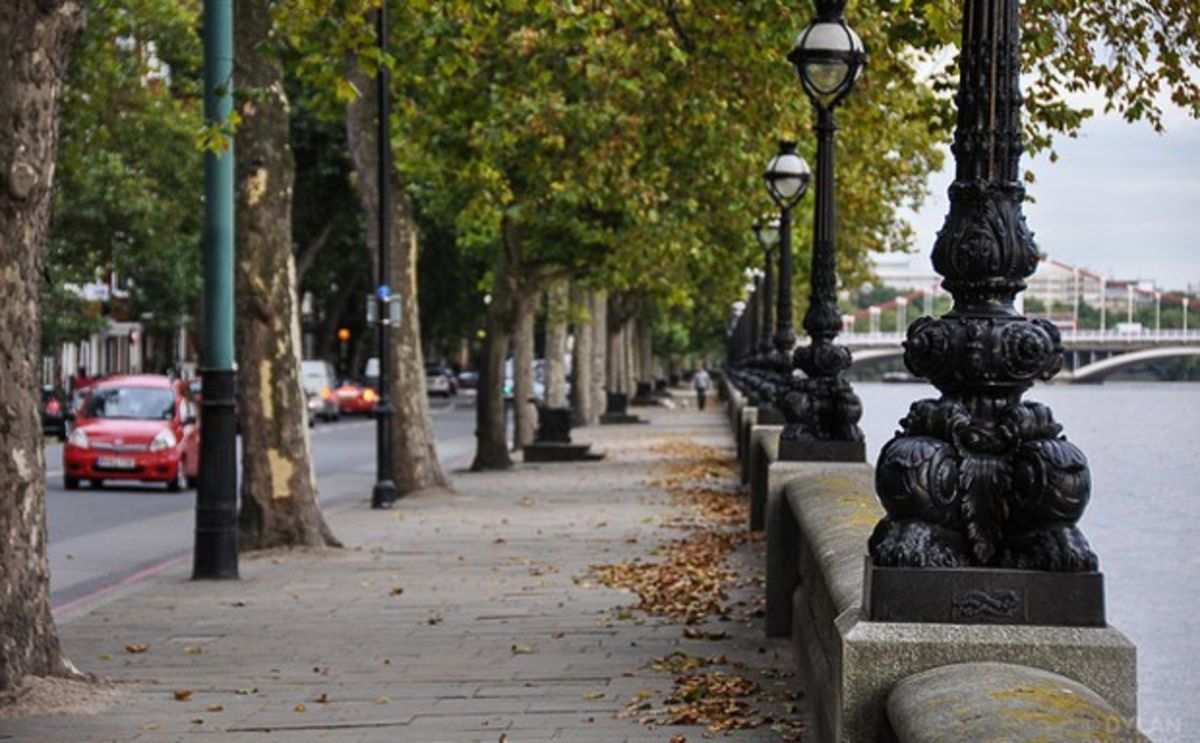pole: (873, 5, 1103, 619), (785, 26, 864, 464), (203, 11, 234, 577), (376, 19, 394, 507)
tree: (1, 1, 92, 688), (237, 32, 337, 551), (482, 312, 508, 467)
tree branches: (446, 43, 719, 179)
vehicle: (80, 373, 195, 490)
